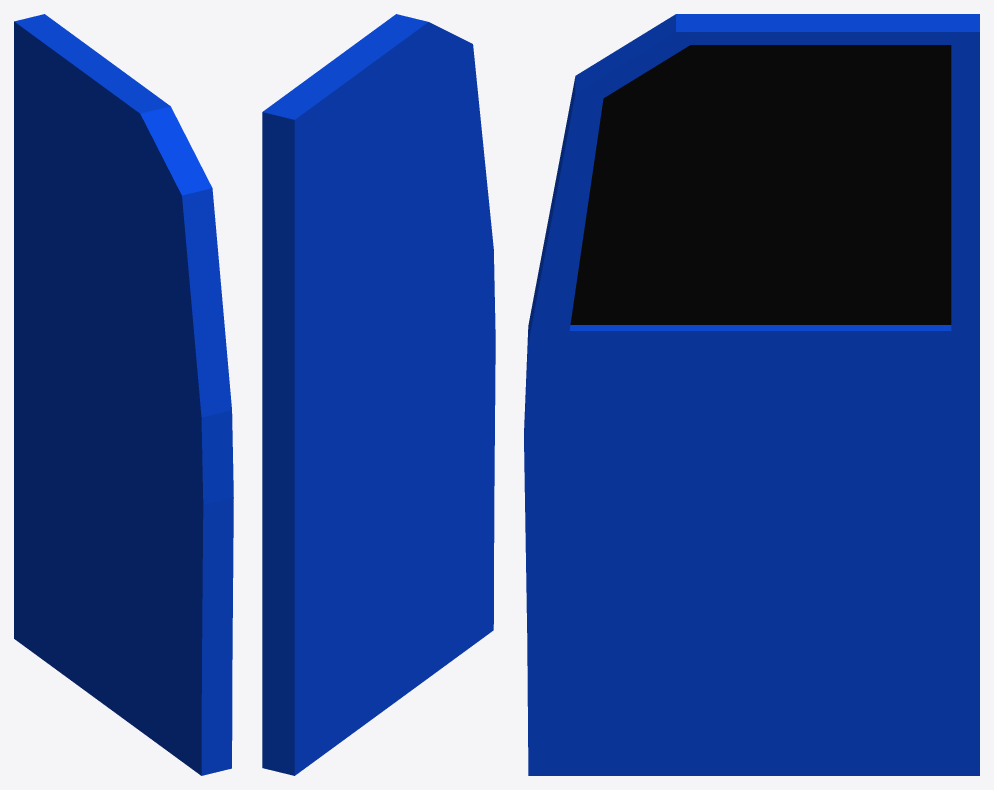
The model's file is CarDoor_1.fbx.
3 renders of one model, left to right at view 1: azimuth 30°, elevation 25°; view 2: azimuth 150°, elevation 25°; view 3: azimuth 270°, elevation 25°, orthographic. The views are drawn at different scales.
Parts seen in each view (by area): view 1: Door.002; view 2: Door.002; view 3: Door.002.
Boxes of the visible parts, bbox=[...] form: Door.002: bbox=[14, 14, 233, 775]; Door.002: bbox=[262, 14, 495, 775]; Door.002: bbox=[524, 14, 979, 775].
Size of the model in its own units: 9.61 by 185 by 103.
